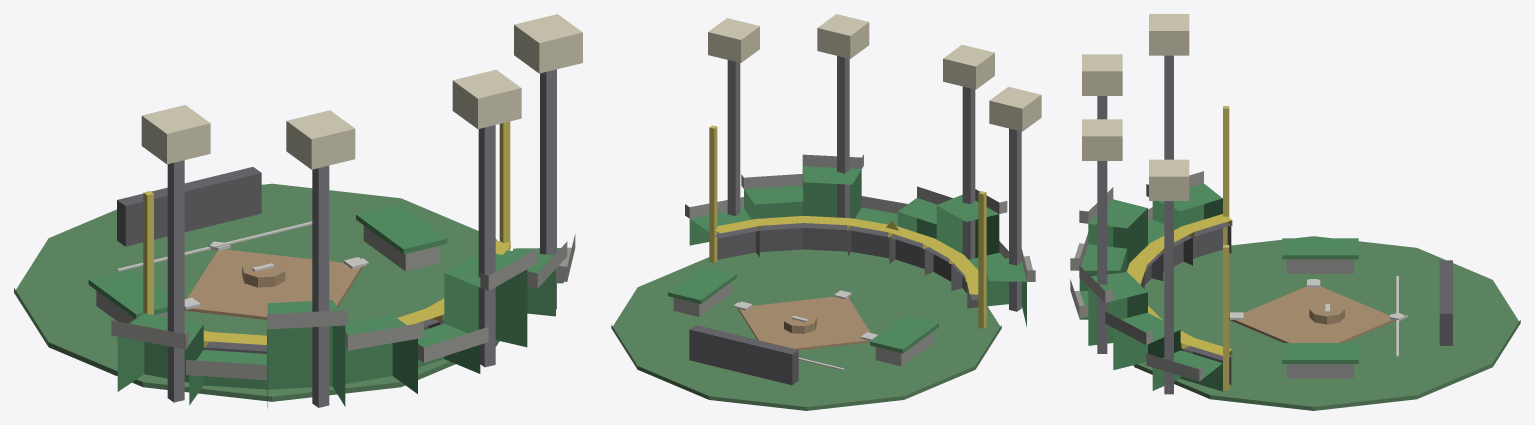
Rendered from estadio.glb.
3 renders of one model, left to right at view 1: azimuth 30°, elevation 25°; view 2: azimuth 150°, elevation 25°; view 3: azimuth 270°, elevation 25°, orthographic. The views are drawn at different scales.
Parts seen in each view (by area): view 1: estadio; view 2: estadio; view 3: estadio.
Part boxes in pixels (bbox=[...]): estadio: bbox=[14, 14, 582, 408]; estadio: bbox=[611, 14, 1041, 410]; estadio: bbox=[1070, 14, 1520, 410].
Bounding box in the file's own units: 0.191 × 0.112 × 0.2002.
